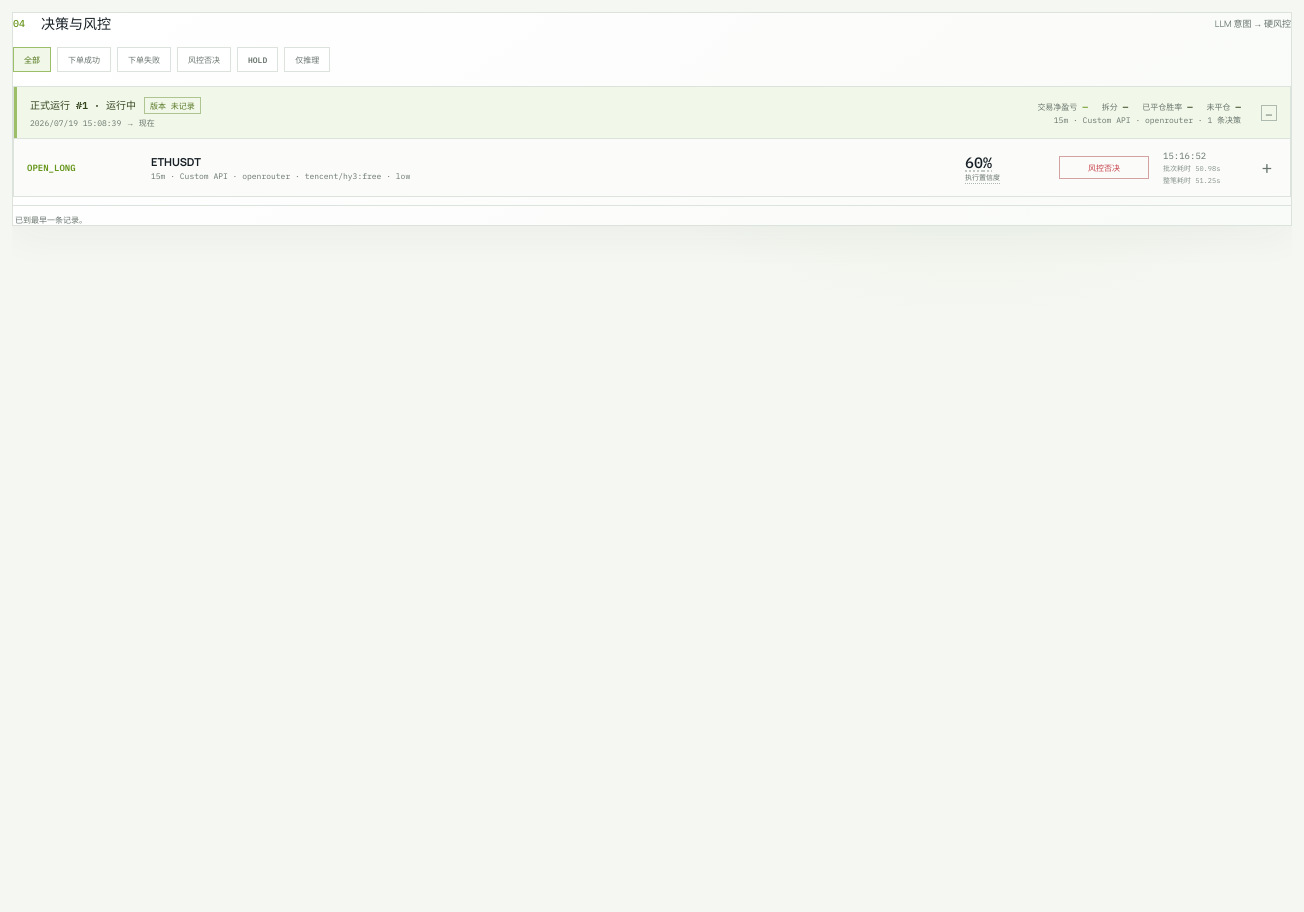
it: DecisionPanel › shows shadow structure checks without presenting them as a hard rejection
Click the button "OPEN_LONG" at [51, 168], box [14,139,1290,196]
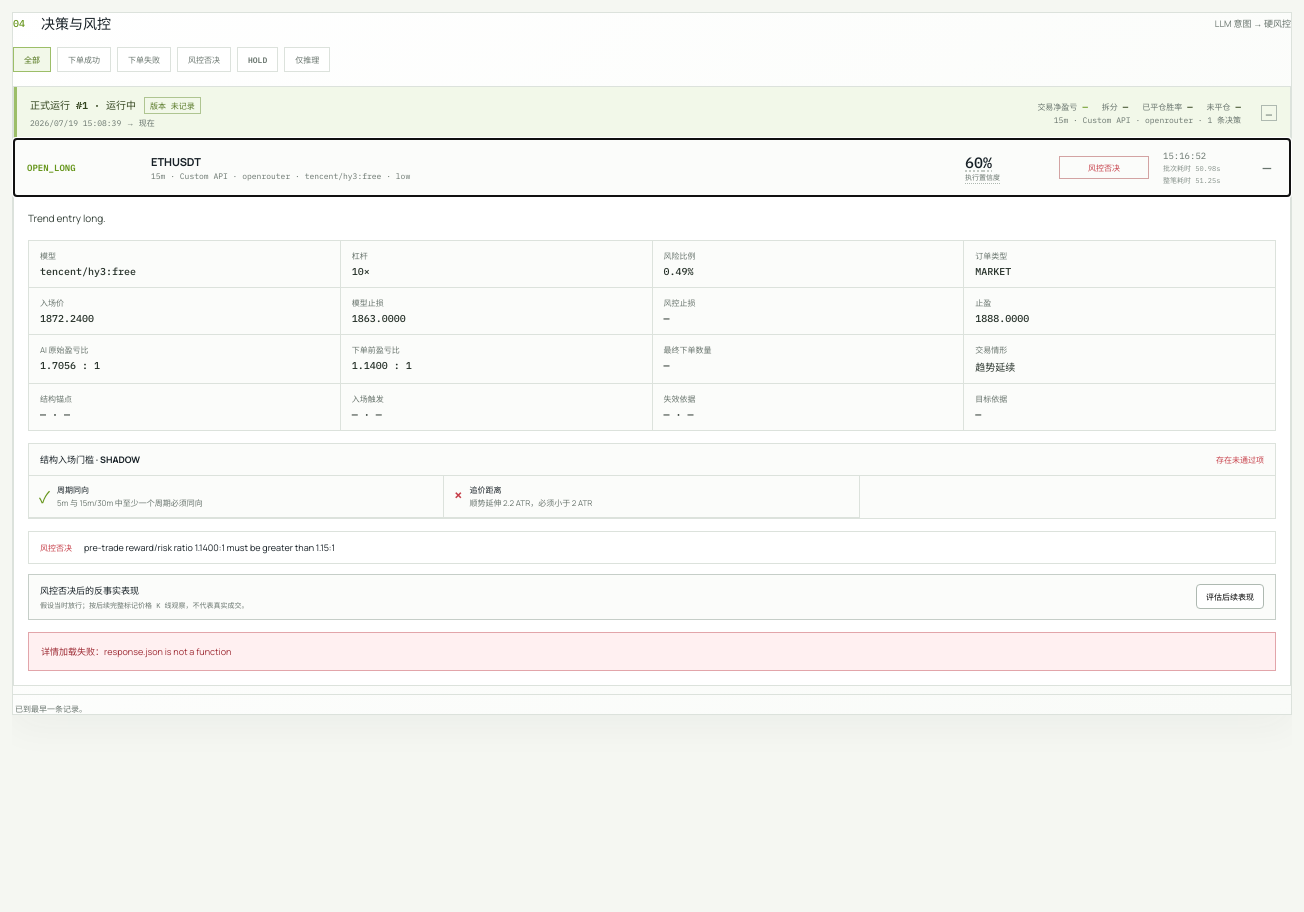
Now the text "结构入场门槛 · SHADOW" is shown, box [40,453,140,466]
Now the text "存在未通过项" is shown, box [1216,454,1264,465]
Now the text "周期同向" is shown, box [57,485,89,495]
